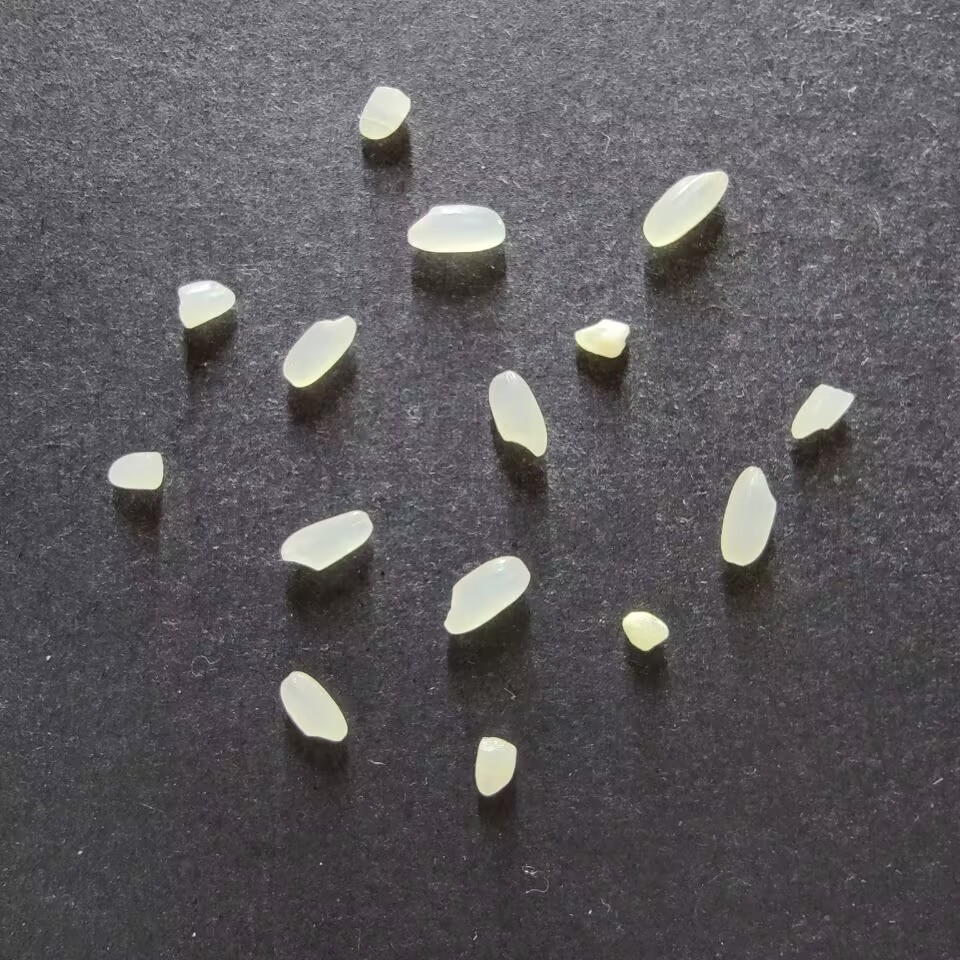broken: (789, 382, 853, 439), (176, 280, 235, 329), (358, 86, 411, 140), (474, 735, 517, 797), (107, 451, 164, 490), (574, 318, 629, 358), (620, 610, 671, 652)
rice: (443, 555, 530, 635), (642, 170, 728, 247), (719, 465, 776, 566), (279, 509, 373, 570), (281, 315, 356, 388), (488, 370, 547, 457), (279, 669, 348, 742), (406, 204, 505, 253)
